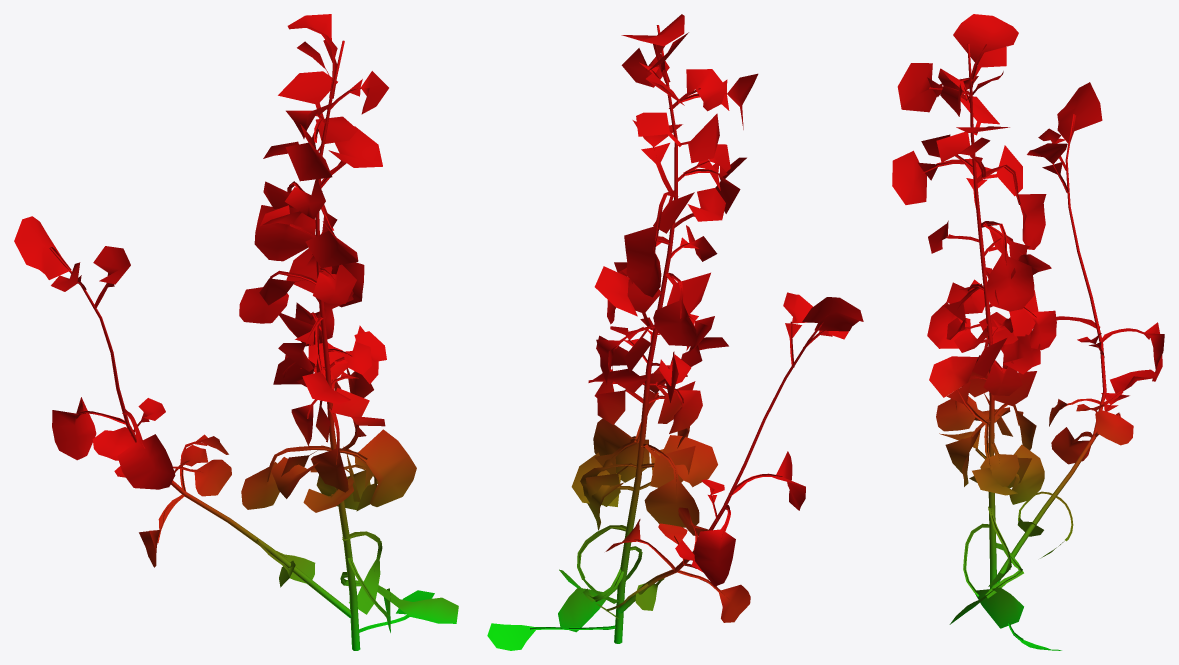
File: Var5_LOD0.fbx
3 views of the same model, side by side, from view 1: azimuth 30°, elevation 25°; view 2: azimuth 150°, elevation 25°; view 3: azimuth 270°, elevation 25° (orthographic). The views are drawn at different scales.
Parts seen in each view (by area): view 1: _426f_Var5_LOD0; view 2: _426f_Var5_LOD0; view 3: _426f_Var5_LOD0.
Part boxes in pixels (x1=…): _426f_Var5_LOD0: x1=14, y1=14, x2=458, y2=650; _426f_Var5_LOD0: x1=487, y1=14, x2=863, y2=650; _426f_Var5_LOD0: x1=892, y1=14, x2=1164, y2=650.
Bounding box in the file's own units: 31.89 × 49.47 × 21.12.
